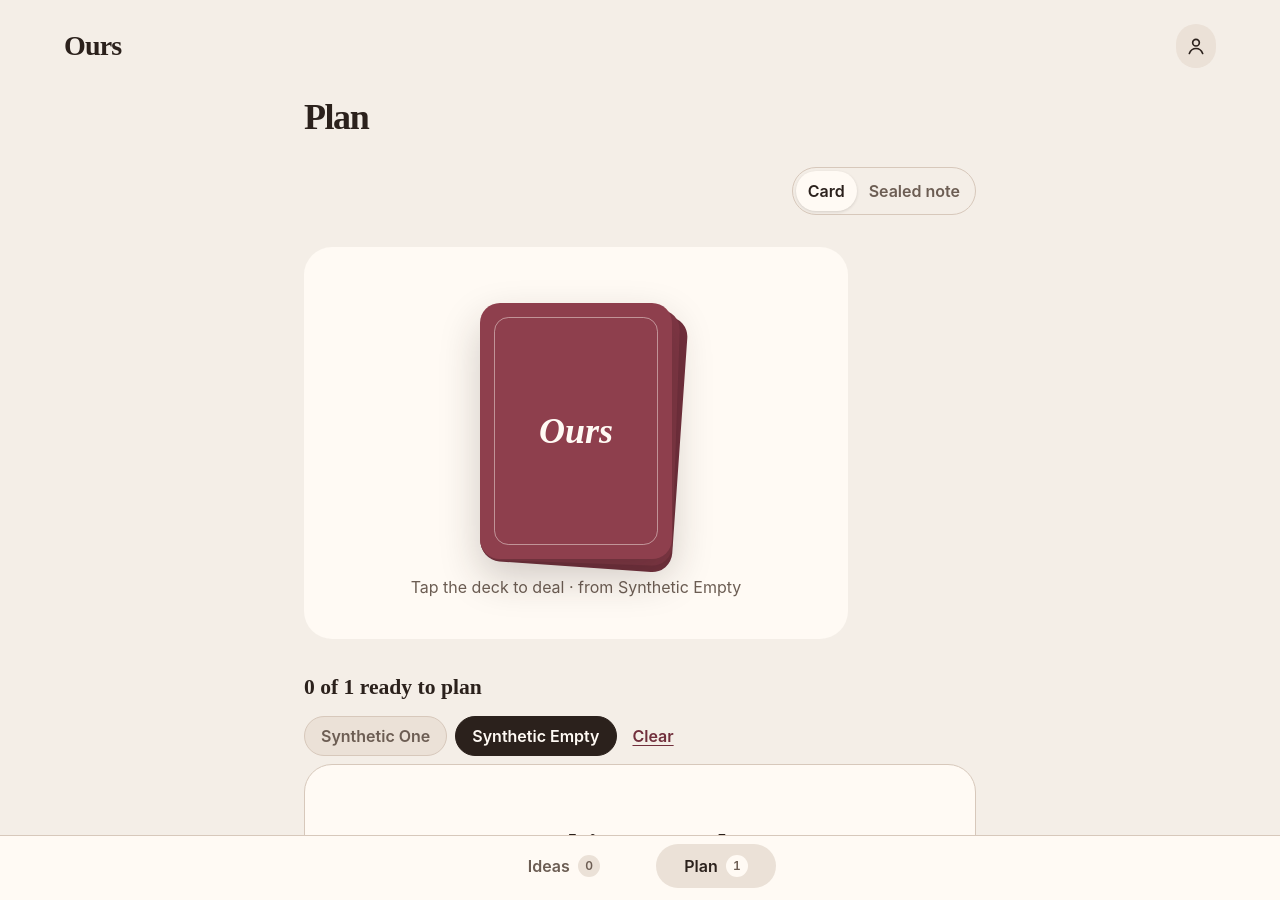
Test case: Plan reveal › keeps an empty category empty without broadening
The image size is (1280, 900).
Click the button with aria-label "Deal a card" at (576,431), box [480,303,672,559]
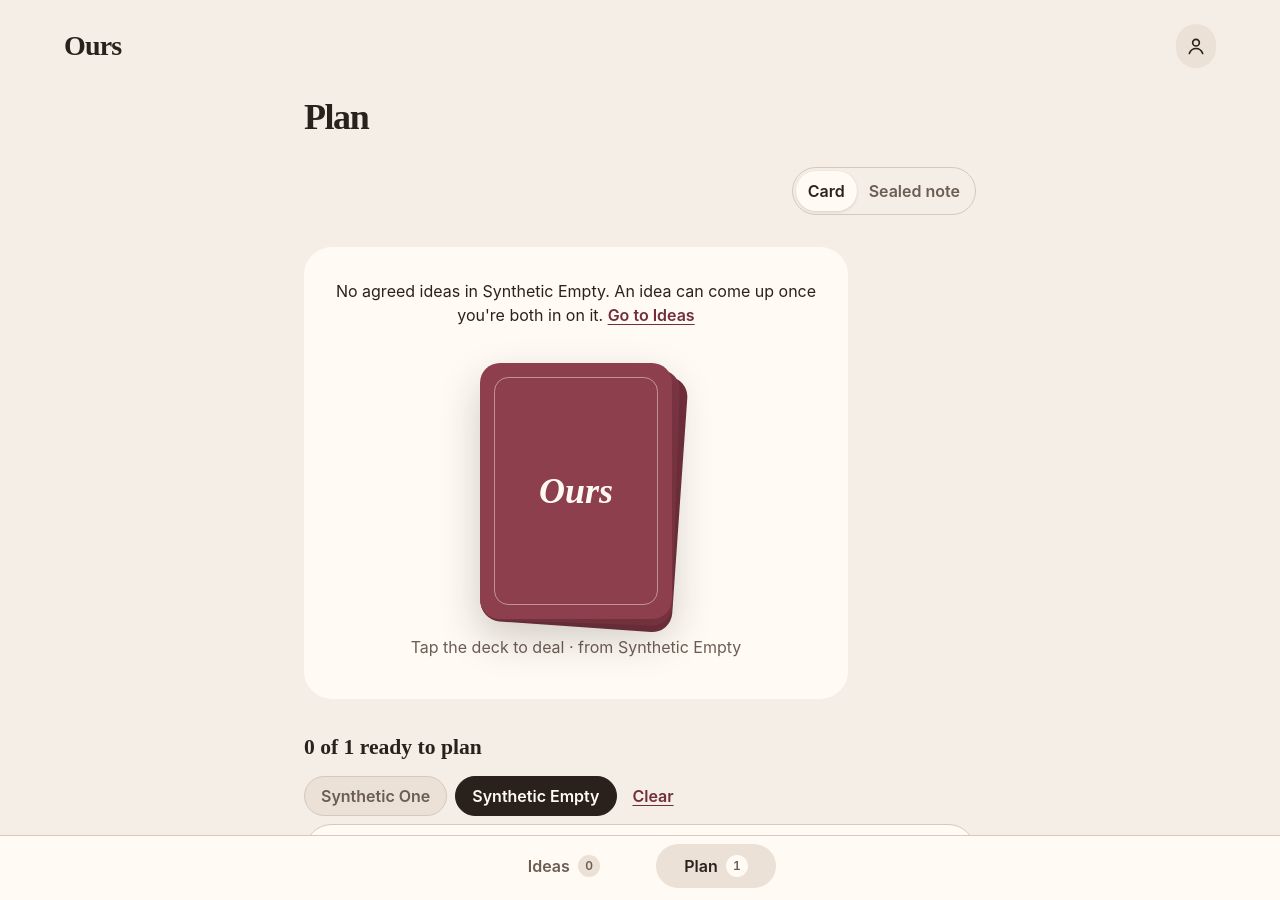
Check: the text "No agreed ideas in Synthetic Empty" is shown, box [336,281,610,301]
